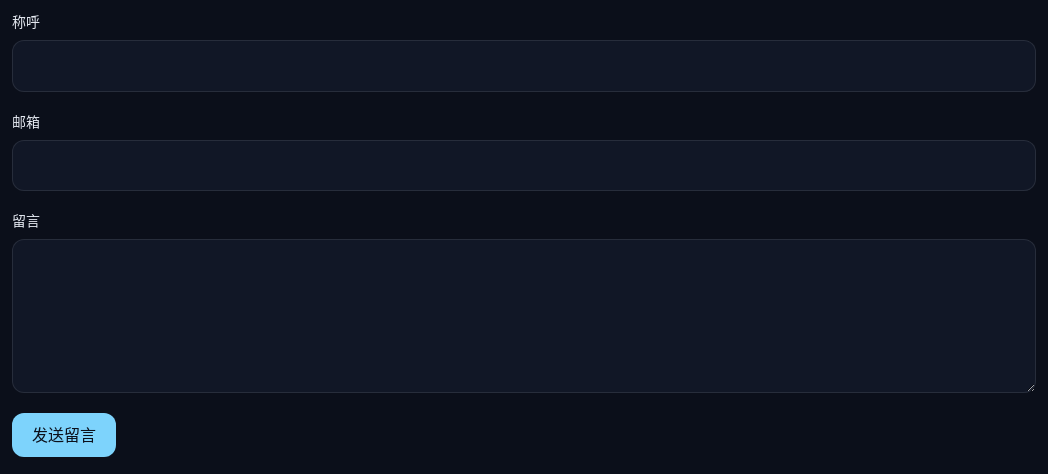
Scenario: ContactForm › 接口返回失败时展示服务端文案并保留已填内容
Type "张三" into the field labelled "称呼". click: (524, 66)
box: top-left (12, 40), bottom-right (1036, 92)
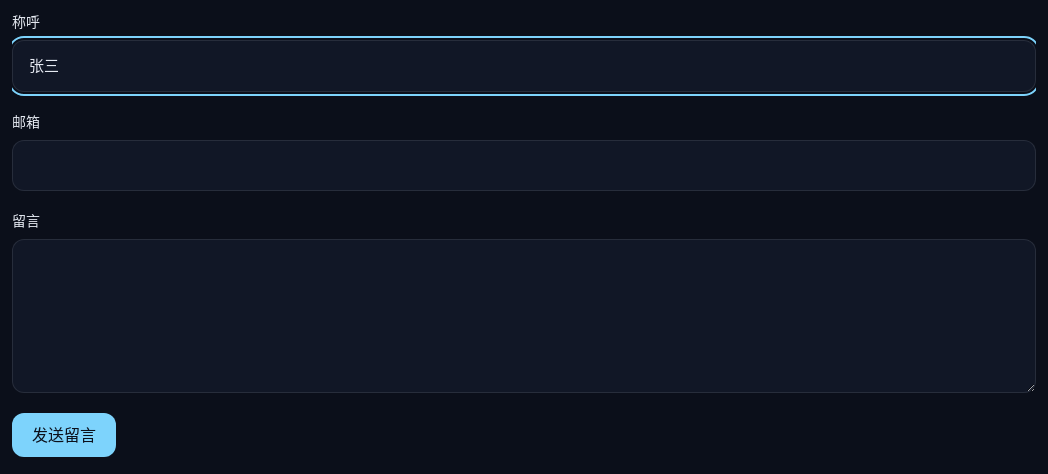
Type "zhangsan@example.com" into the field labelled "邮箱". click: (524, 165)
box: top-left (12, 140), bottom-right (1036, 191)
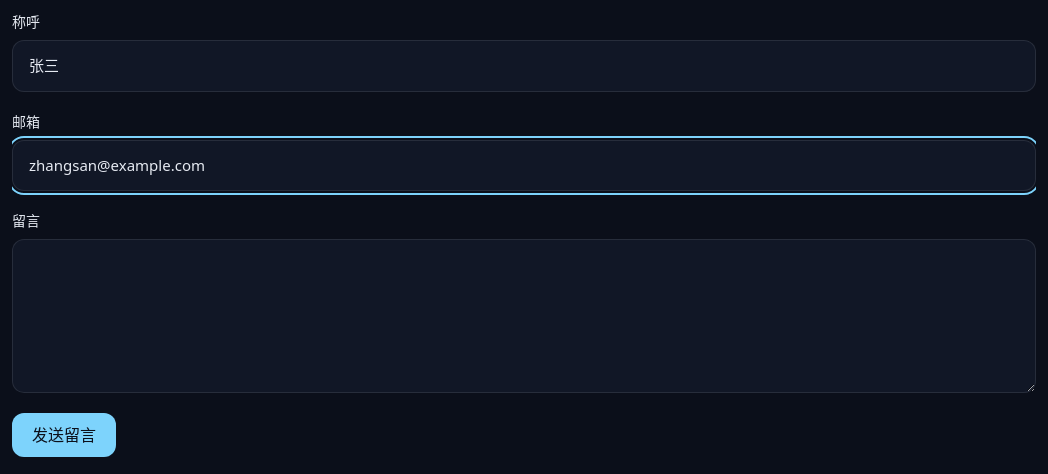
Type "这是一条长度足够的测试留言内容。" into the text box labelled "留言". click: (524, 316)
box: top-left (12, 239), bottom-right (1036, 392)
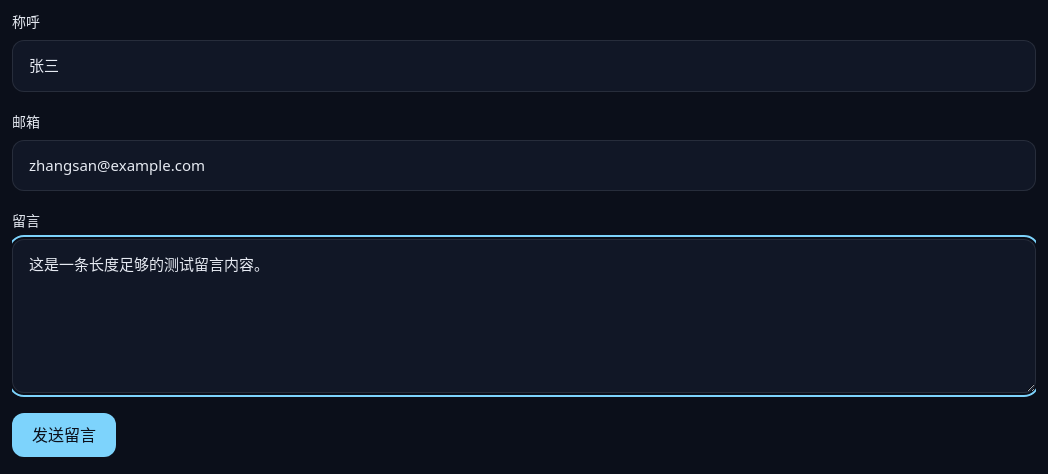
Click the button "发送留言". click: (64, 434)
box: top-left (12, 412), bottom-right (116, 456)
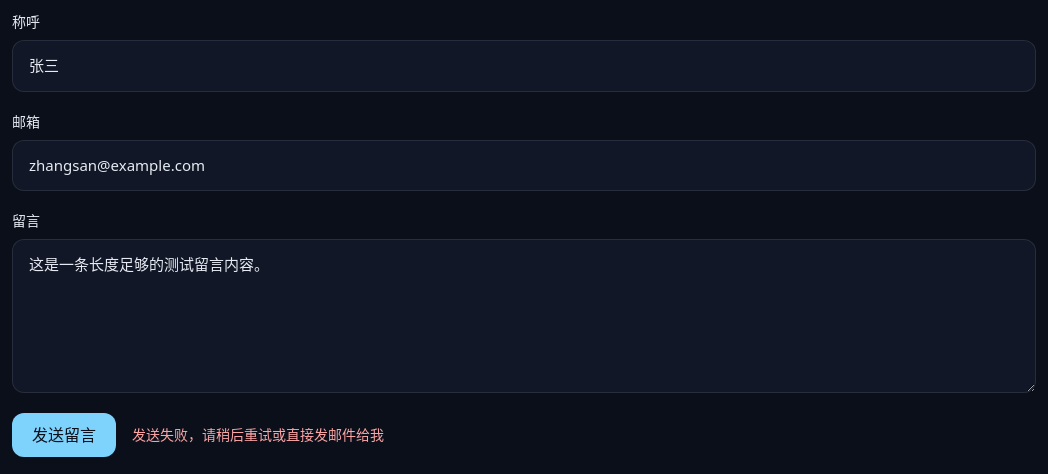
Result: the message reads "发送失败，请稍后重试或直接发邮件给我" at top-left (132, 424), bottom-right (384, 444)
